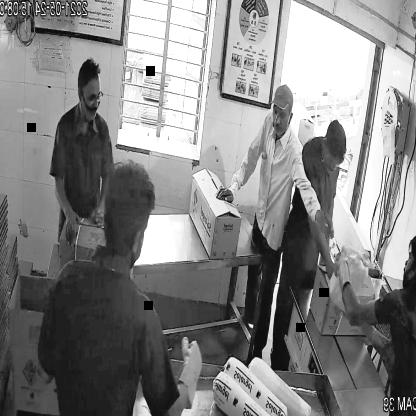goggles: (83, 90, 105, 108)
no_goggles: (271, 108, 294, 124)
